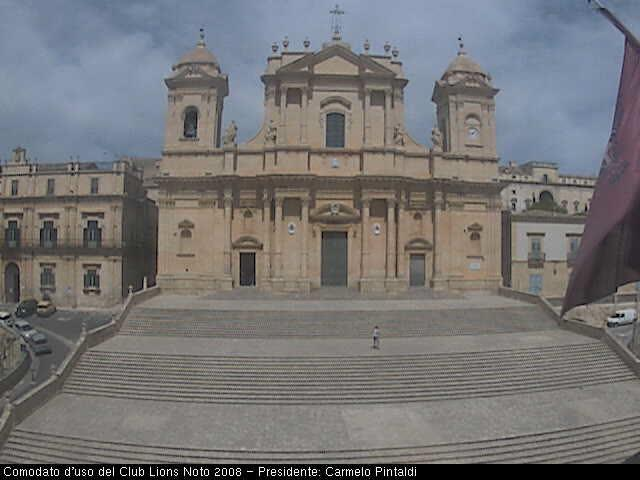person: (370, 324, 383, 350)
